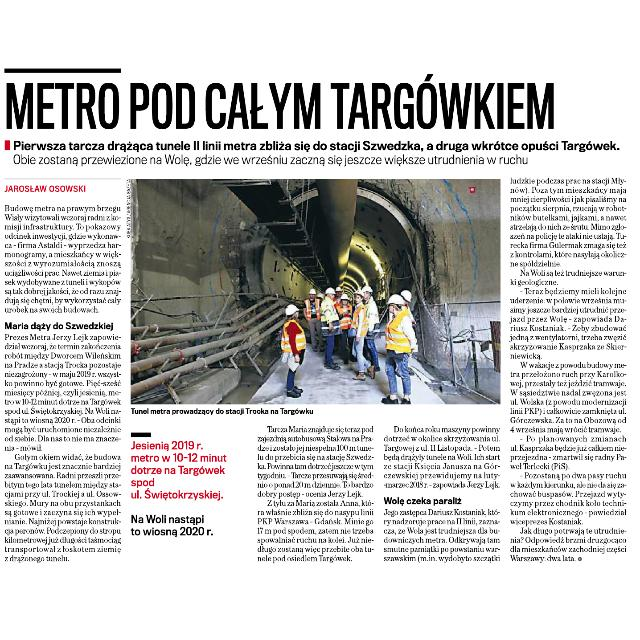author: (4, 180, 90, 196)
body: (506, 176, 630, 564), (2, 202, 124, 568), (376, 423, 504, 567), (253, 424, 375, 564), (127, 426, 233, 544)
caption: (130, 405, 318, 419)
image: (128, 177, 502, 406)
lead: (2, 138, 624, 170)
title: (3, 76, 567, 136)
